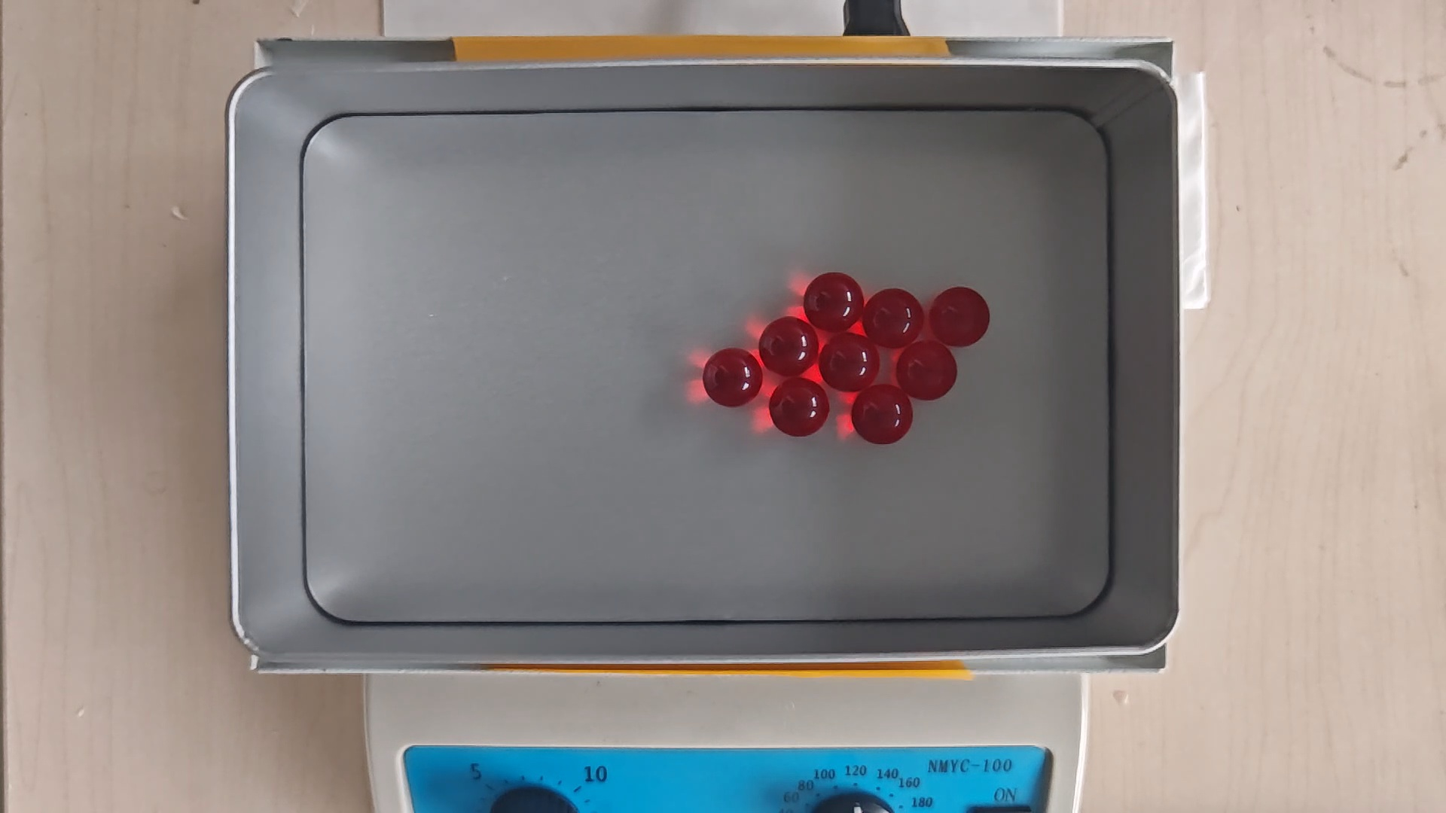ball: (852, 385, 914, 447), (702, 348, 762, 409), (897, 341, 959, 400), (930, 286, 990, 346), (804, 271, 864, 331), (760, 316, 818, 377), (819, 334, 880, 392), (864, 288, 922, 348), (770, 379, 829, 437)
container: (297, 104, 1117, 621)
